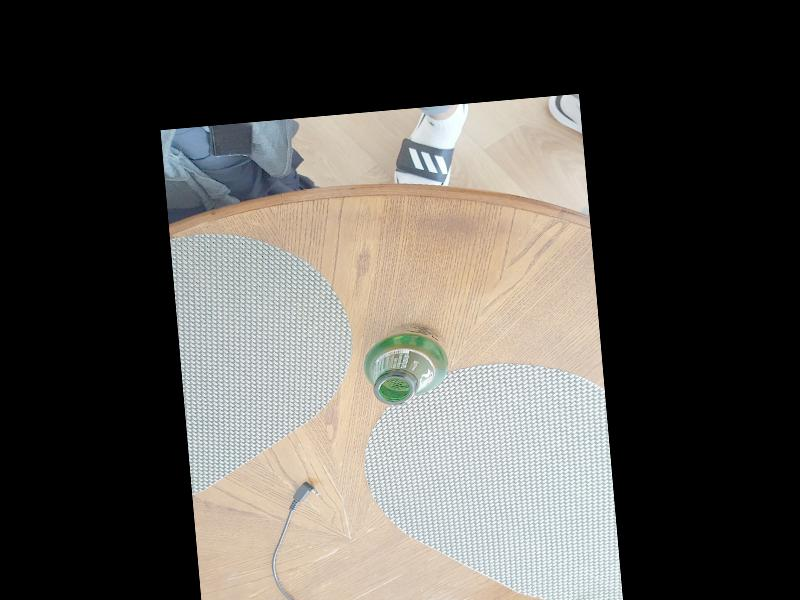Beer: (359, 321, 451, 407)
